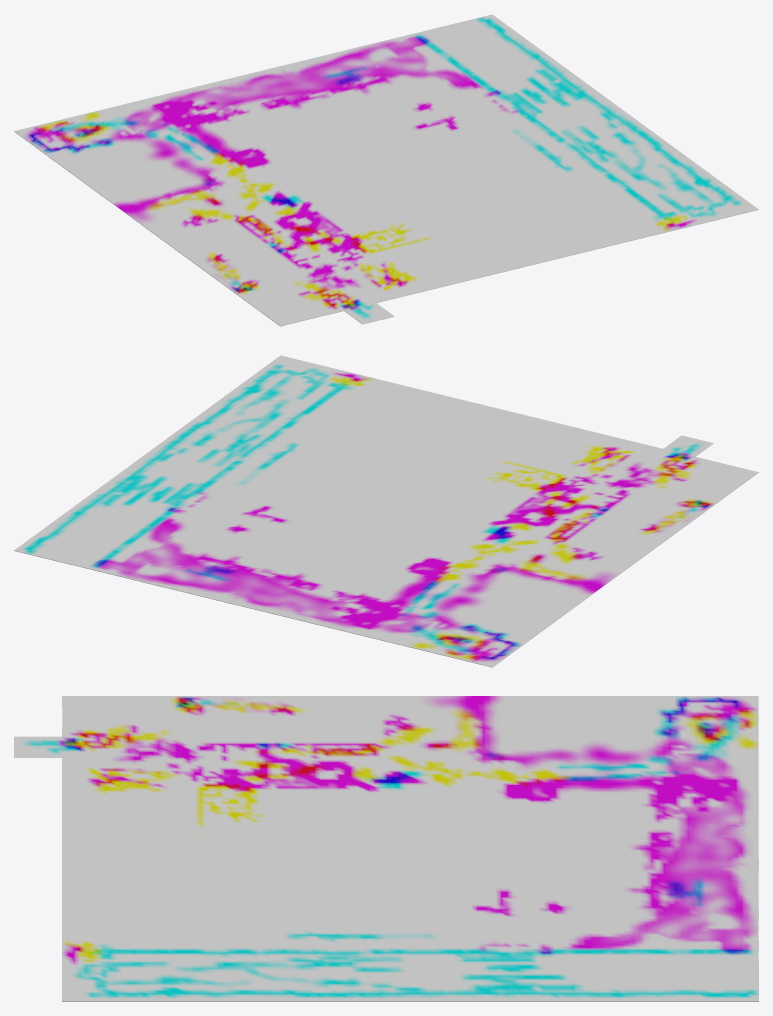
3 views of the same model, one above another, from view 1: azimuth 30°, elevation 25°; view 2: azimuth 150°, elevation 25°; view 3: azimuth 270°, elevation 25° (orthographic). The views are drawn at different scales.
Parts seen in each view (by area): view 1: SM_MERGED_BP_Roads_C_2; view 2: SM_MERGED_BP_Roads_C_2; view 3: SM_MERGED_BP_Roads_C_2.
Part boxes in pixels (x1,y1,x2,y2): SM_MERGED_BP_Roads_C_2: (14, 14, 758, 326); SM_MERGED_BP_Roads_C_2: (14, 355, 758, 667); SM_MERGED_BP_Roads_C_2: (14, 696, 758, 1001).
Size of the model in its own units: 26999 by 27851 by 20.
